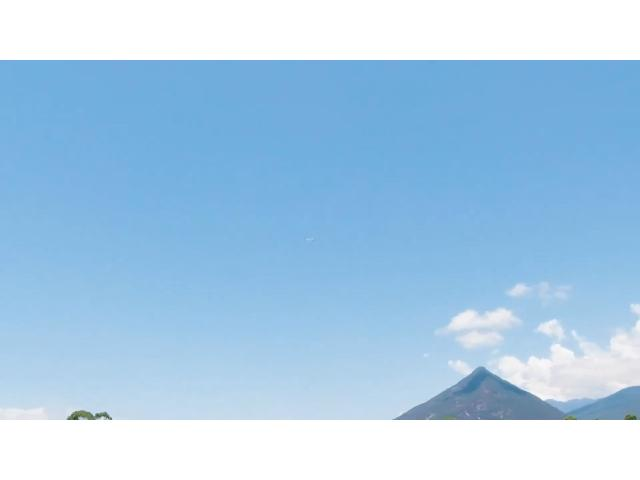Anti-Drone: (294, 229, 322, 245)
